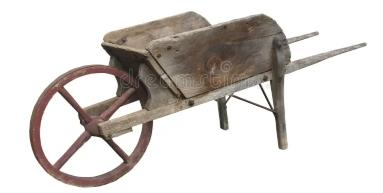BROUETTE: (25, 7, 373, 193)
